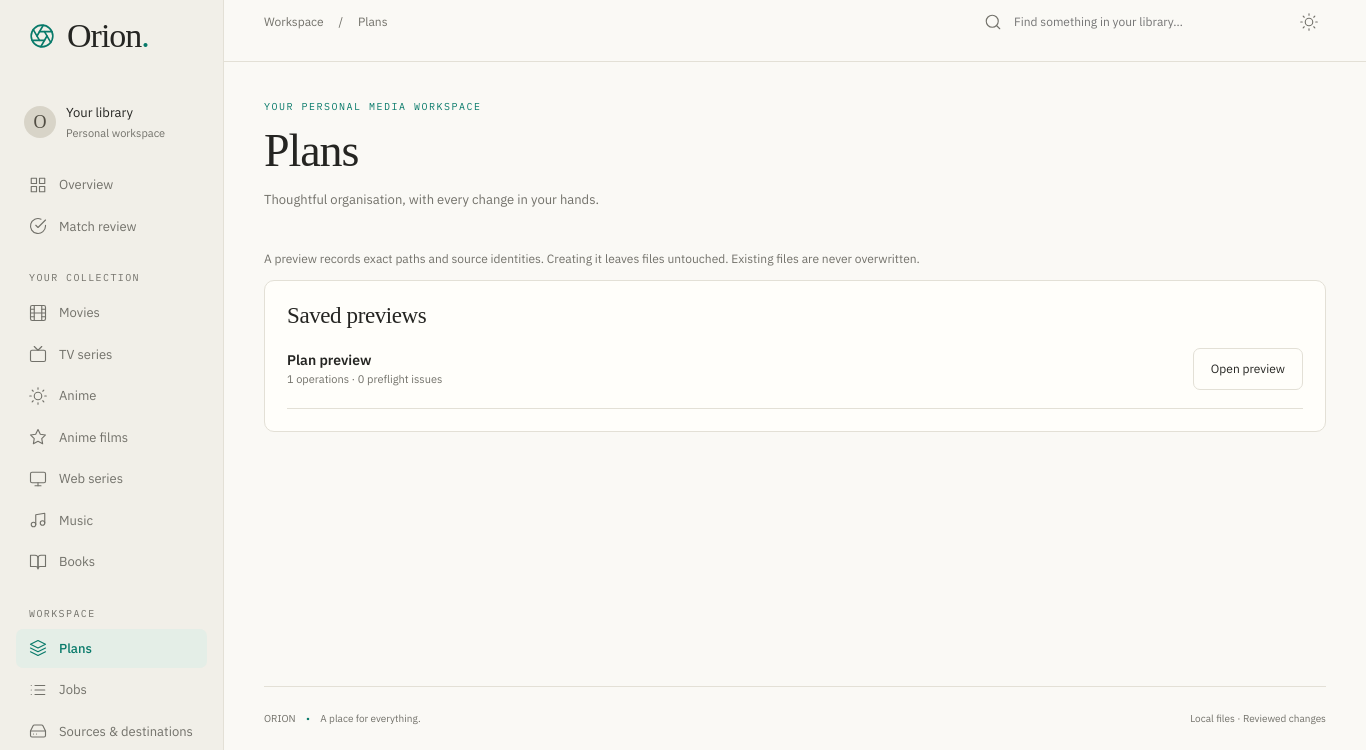
Test: stale source preflight disables execution and shows conflict explanation
Click the button with aria-label "Open plan preview": (1248, 369) [1193,348,1303,390]
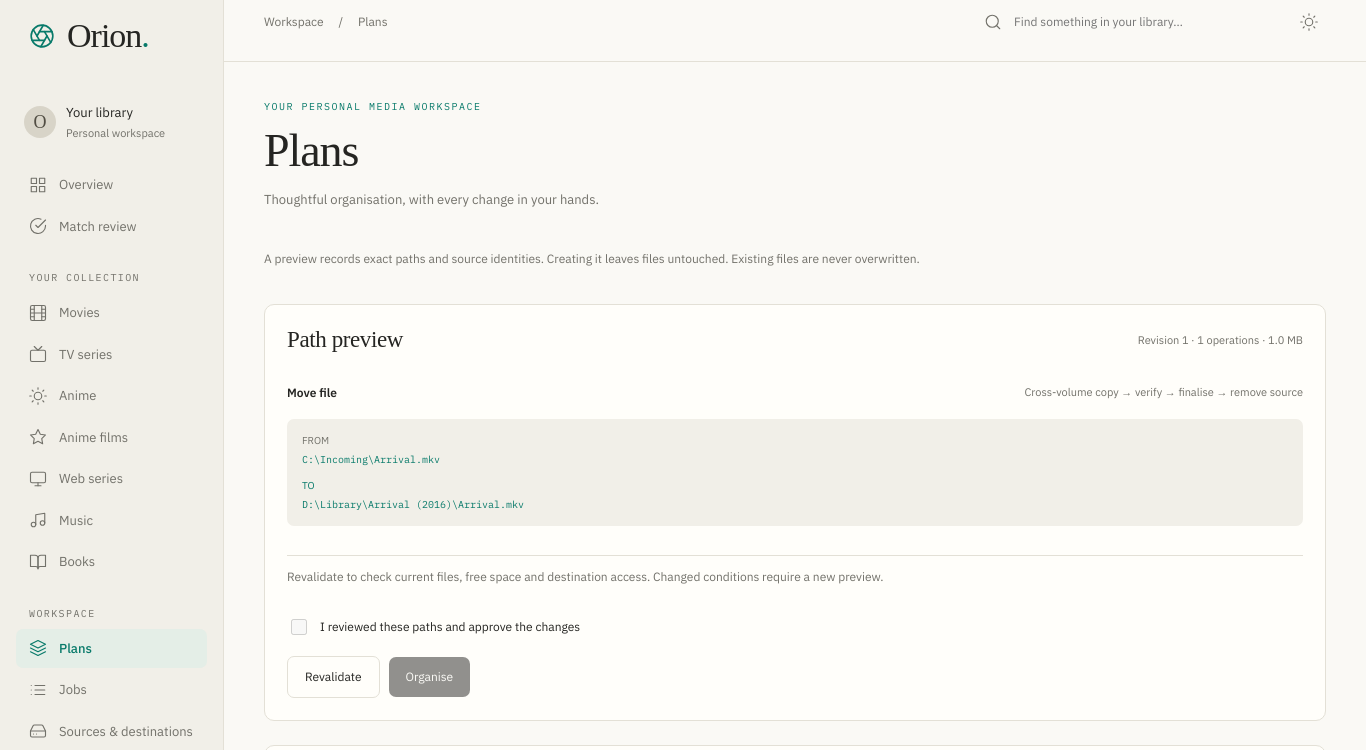
Click the button "Revalidate": (333, 677) [287,656,380,698]
(page scrolled)
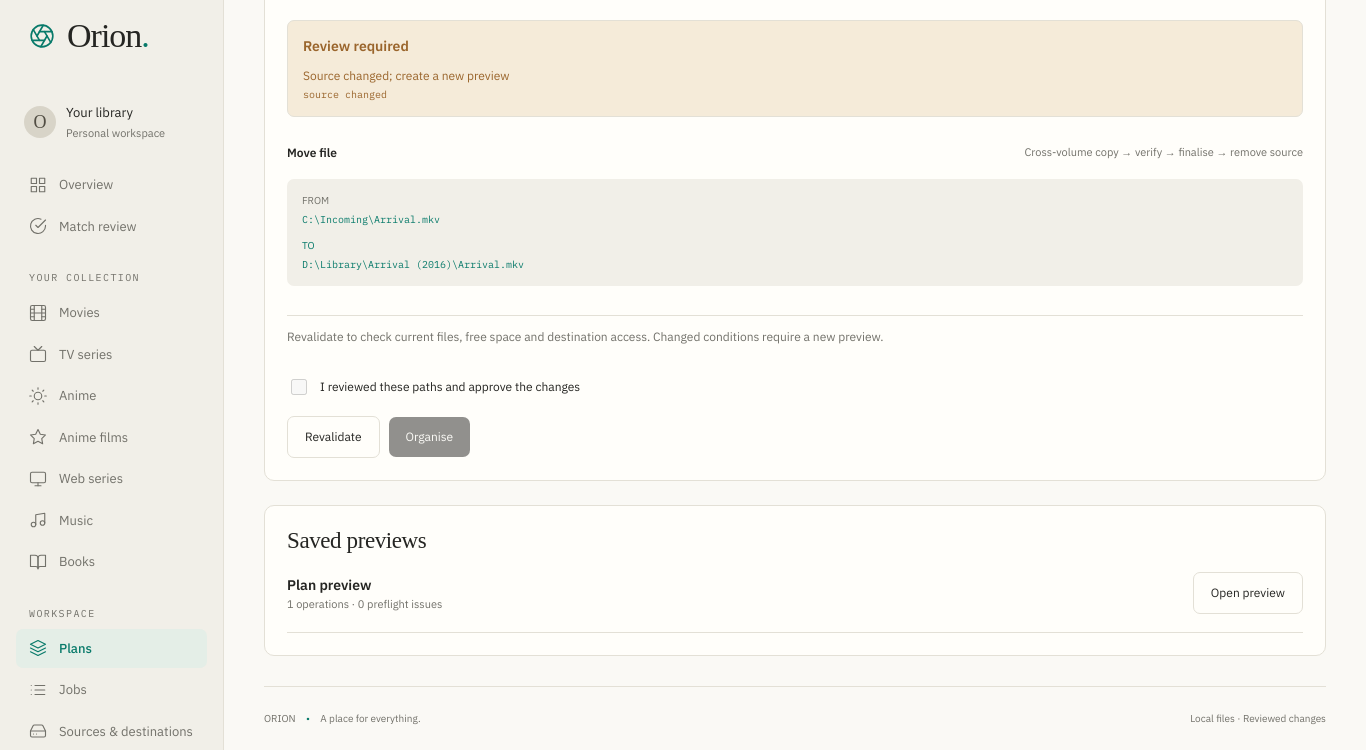
Now the button "Organise" is disabled, box [389,417,470,457]
Now the text "Source changed; create a new preview" is shown, box [303,68,510,83]
